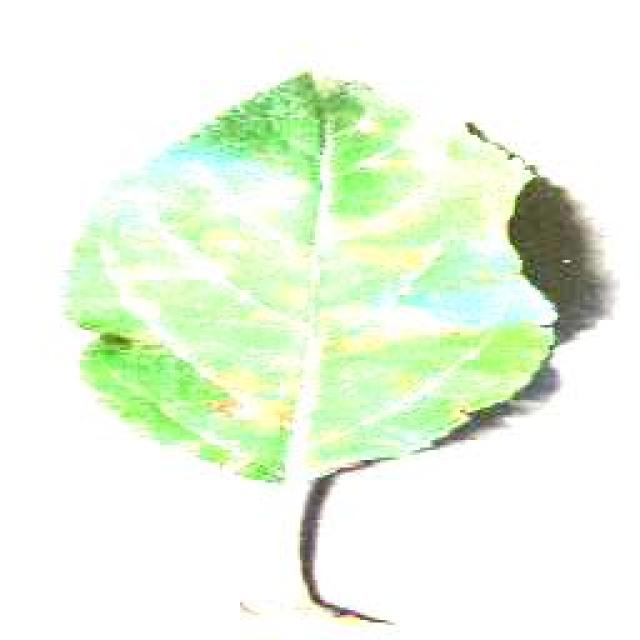apple rust disease: (60, 67, 615, 625)
